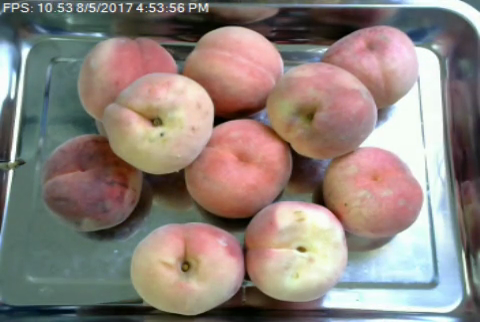Peach: (102, 74, 217, 175), (264, 63, 380, 162), (243, 200, 351, 304), (182, 118, 293, 218), (128, 224, 245, 316), (311, 21, 424, 109), (40, 133, 141, 231), (321, 146, 425, 238), (183, 26, 283, 114), (81, 36, 173, 123)
